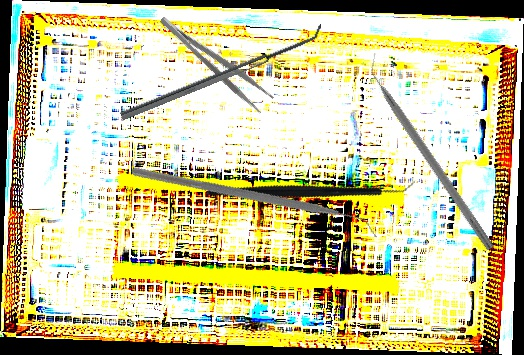Chopper: (130, 97, 378, 311), (205, 112, 417, 262), (359, 50, 506, 252)
Dressing Forceps: (157, 5, 275, 116)
Spatula Surgical: (116, 22, 327, 121)
